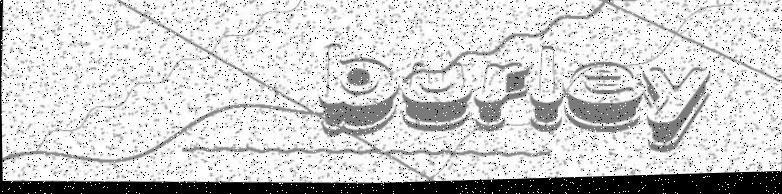b: (316, 41, 401, 142)
e: (562, 60, 644, 139)
l: (528, 46, 567, 137)
r: (471, 62, 531, 138)
u: (399, 62, 472, 136)
y: (639, 69, 712, 159)
